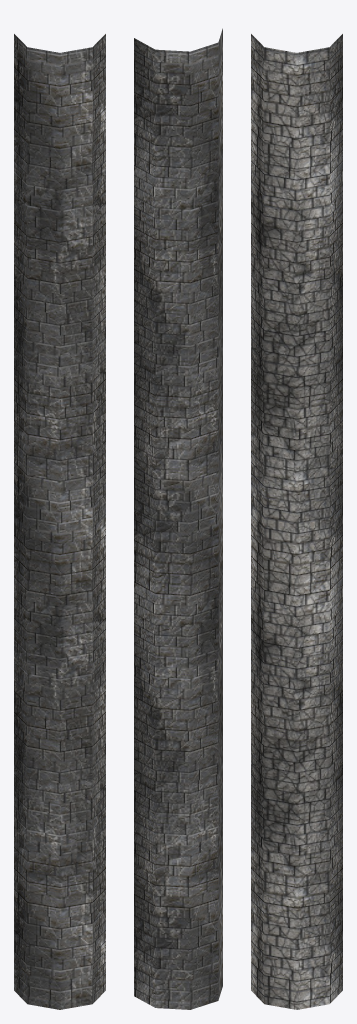
File: opora1_kzdm.gltf
3 views of the same model, side by side, from view 1: azimuth 90°, elevation 25°; view 2: azimuth 150°, elevation 25°; view 3: azimuth 270°, elevation 25° (orthographic).
Size of the model in its own units: 3 by 34.44 by 3.
Materials: 1 (1 with a texture image).
